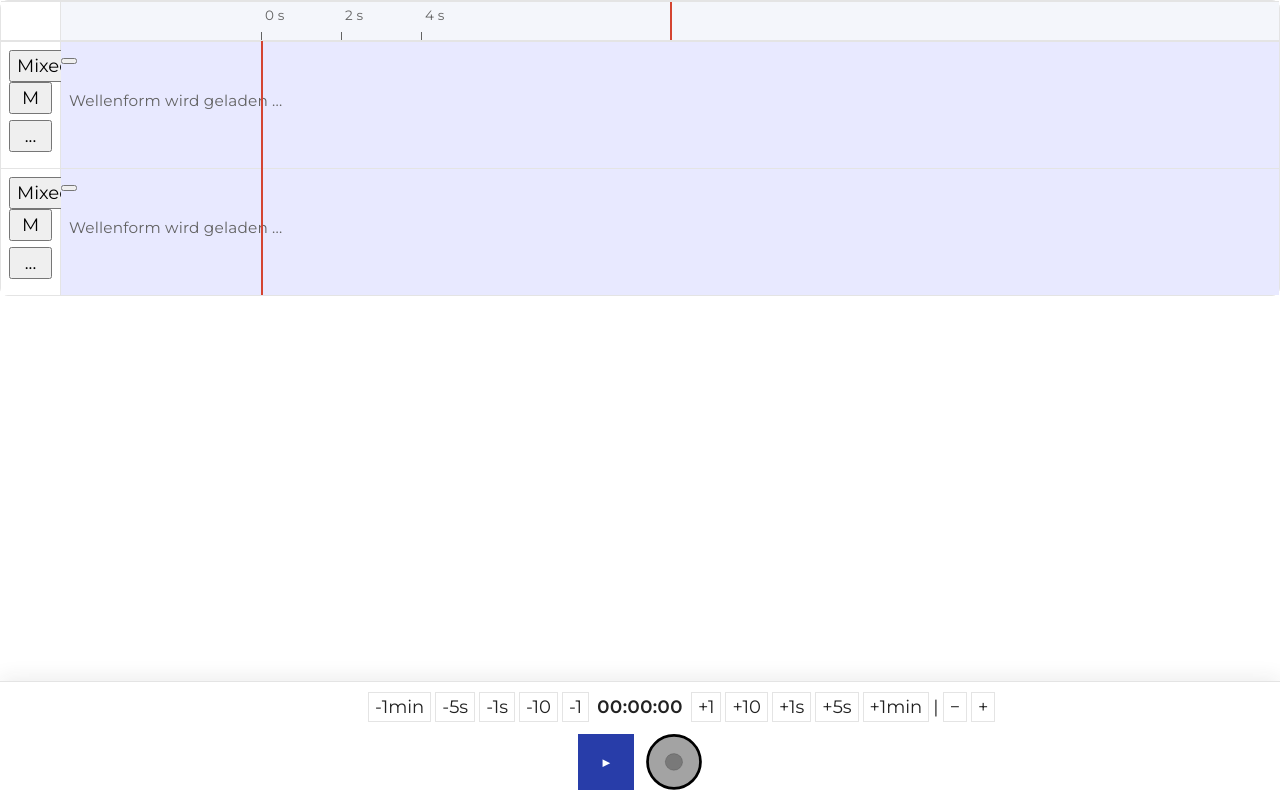
Test case: gemeinsame Zeitleiste › markiert eine Spur für die Aufnahme nur im Editmodus
Expected: the button named "Aufnehmen" is disabled, [646,734,702,790]
Click the button with aria-label "Spur 2: Gitarre für Aufnahme auswählen".
click(44, 193)  # box [9,177,79,209]
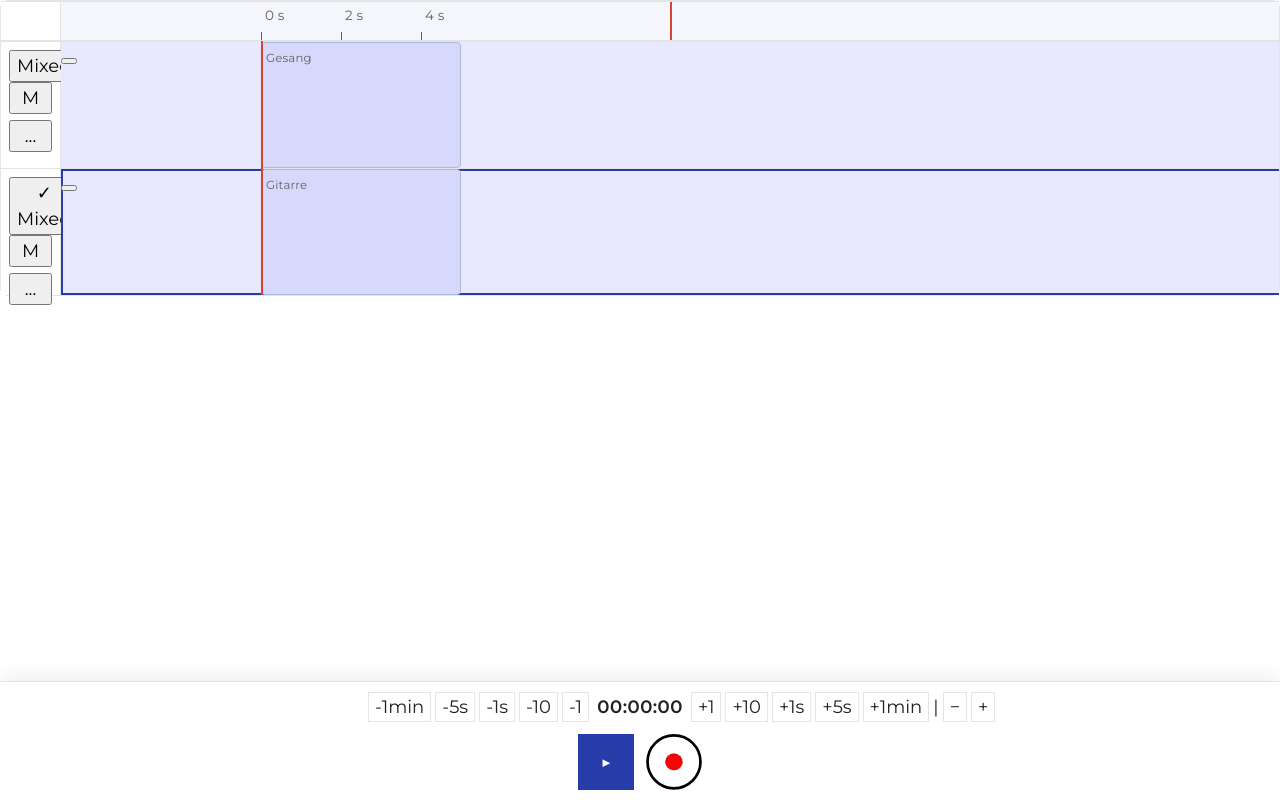
Result: the button named "Aufnehmen" is enabled at [646,734,702,790]
